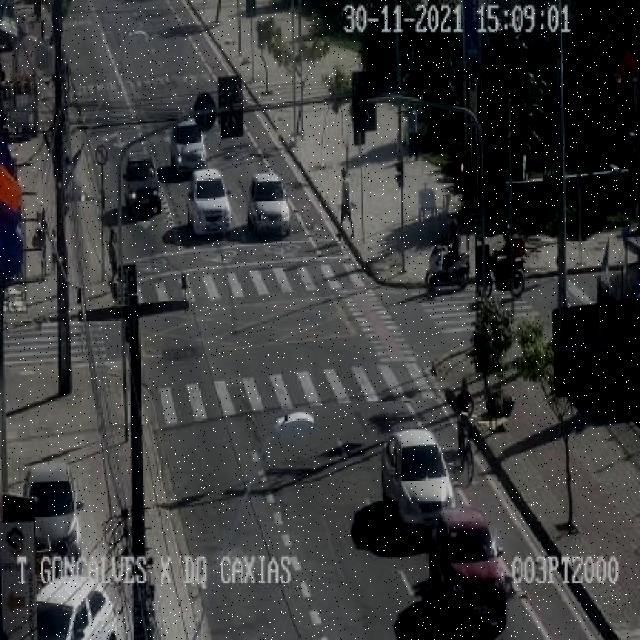bicycle: (456, 378, 476, 482)
car: (428, 508, 506, 626), (380, 428, 454, 532), (24, 464, 81, 573), (35, 574, 117, 640), (186, 168, 231, 235), (247, 172, 290, 235), (124, 150, 160, 212), (170, 117, 206, 171)
motorbike: (476, 223, 524, 297), (424, 218, 470, 290), (337, 168, 352, 240), (36, 208, 49, 276), (108, 228, 119, 290), (408, 103, 418, 159), (51, 228, 57, 272)
